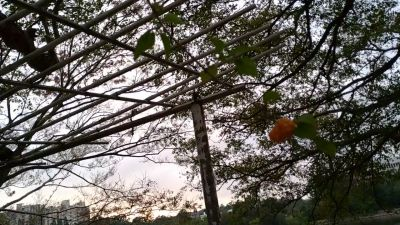eggs: (268, 116, 296, 143)
